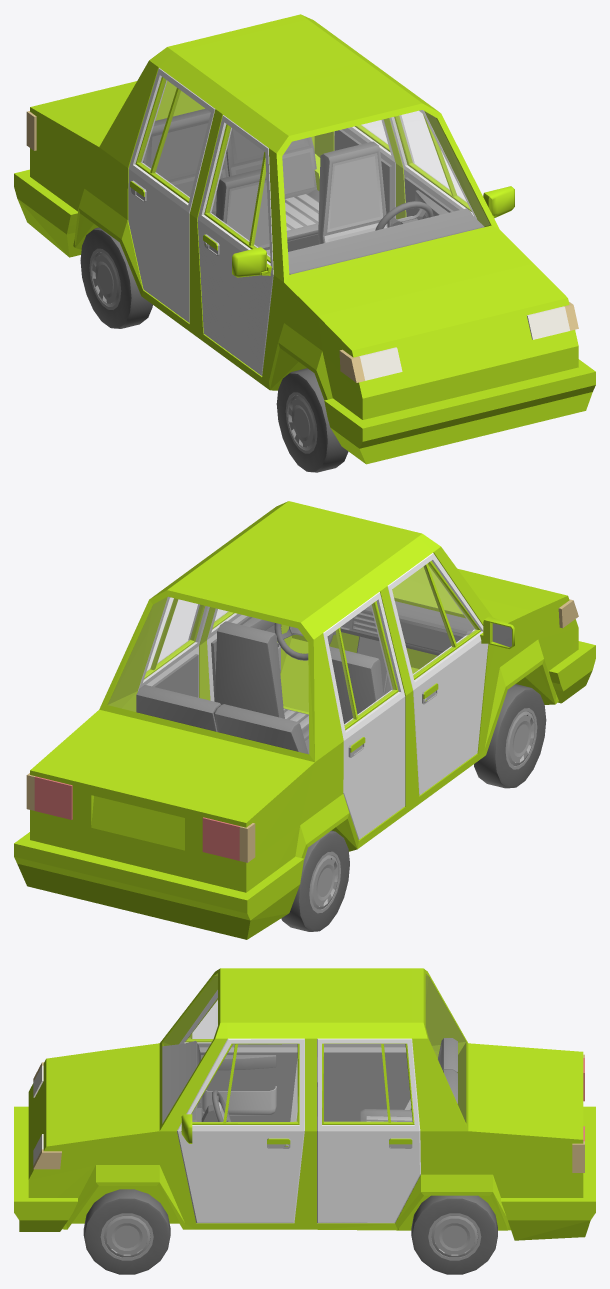
3 views of the same model, one above another, from view 1: azimuth 30°, elevation 25°; view 2: azimuth 150°, elevation 25°; view 3: azimuth 270°, elevation 25° (orthographic). The views are drawn at different scales.
Visible parts, largest first — view 1: Chassis_Chassis_0, Windows_Windows_0, Chassis_Bumpers_0, Interior_InteriorPanel_0, FR_Door_Chassis_0, RR_Door_Chassis_0, Interior_Handler_0, RR_Door_Windows_0, FR_Door_Windows_0, FR_Wheel_Tire_0, RR_Wheel_Tire_0, FR_Door_Bumpers_0 (+11 smaller); view 2: Chassis_Chassis_0, Windows_Windows_0, Chassis_Bumpers_0, Interior_InteriorPanel_0, FR_Door_Chassis_0, RR_Door_Chassis_0, FR_Door_Windows_0, RR_Door_Windows_0, FR_Wheel_Tire_0, RR_Wheel_Tire_0, Brake_Lights_Brake_lights_0, FR_Door_Bumpers_0 (+11 smaller); view 3: Chassis_Chassis_0, FL_Door_Chassis_0, RL_Door_Chassis_0, Chassis_Bumpers_0, Windows_Windows_0, FL_Door_Windows_0, RL_Door_Windows_0, RR_Door_InteriorPanel_0, FL_Wheel_Tire_0, RL_Wheel_Tire_0, FR_Door_InteriorPanel_0, Interior_InteriorPanel_0 (+9 smaller).
Boxes of the visible parts, <box> form: Chassis_Chassis_0: <box>30,14,578,419</box>; Windows_Windows_0: <box>156,82,489,273</box>; Chassis_Bumpers_0: <box>14,169,595,464</box>; Interior_InteriorPanel_0: <box>142,108,484,274</box>; FR_Door_Chassis_0: <box>197,115,273,375</box>; RR_Door_Chassis_0: <box>128,68,215,322</box>; Interior_Handler_0: <box>226,153,386,255</box>; RR_Door_Windows_0: <box>139,80,209,198</box>; FR_Door_Windows_0: <box>208,127,269,258</box>; FR_Wheel_Tire_0: <box>276,368,348,472</box>; RR_Wheel_Tire_0: <box>80,227,152,328</box>; FR_Door_Bumpers_0: <box>203,124,271,277</box>; Chassis_Chassis_0: <box>30,501,578,892</box>; Windows_Windows_0: <box>108,568,461,753</box>; Chassis_Bumpers_0: <box>14,641,595,939</box>; Interior_InteriorPanel_0: <box>136,601,473,754</box>; FR_Door_Chassis_0: <box>387,553,488,795</box>; RR_Door_Chassis_0: <box>323,592,405,839</box>; FR_Door_Windows_0: <box>392,563,477,675</box>; RR_Door_Windows_0: <box>328,604,395,726</box>; FR_Wheel_Tire_0: <box>474,684,546,788</box>; RR_Wheel_Tire_0: <box>281,830,349,931</box>; Brake_Lights_Brake_lights_0: <box>34,776,239,860</box>; FR_Door_Bumpers_0: <box>413,561,514,701</box>; Chassis_Chassis_0: <box>28,968,583,1229</box>; FL_Door_Chassis_0: <box>177,1038,304,1223</box>; RL_Door_Chassis_0: <box>317,1038,420,1223</box>; Chassis_Bumpers_0: <box>14,1085,595,1240</box>; Windows_Windows_0: <box>164,974,465,1120</box>; FL_Door_Windows_0: <box>192,1044,297,1122</box>; RL_Door_Windows_0: <box>324,1044,411,1121</box>; RR_Door_InteriorPanel_0: <box>324,1052,410,1121</box>; FL_Wheel_Tire_0: <box>83,1189,170,1274</box>; RL_Wheel_Tire_0: <box>411,1195,497,1274</box>; FR_Door_InteriorPanel_0: <box>200,1052,297,1121</box>; Interior_InteriorPanel_0: <box>162,1038,457,1123</box>.
Bounding box in the file's own units: 5.2 × 4.99 × 11.18.
